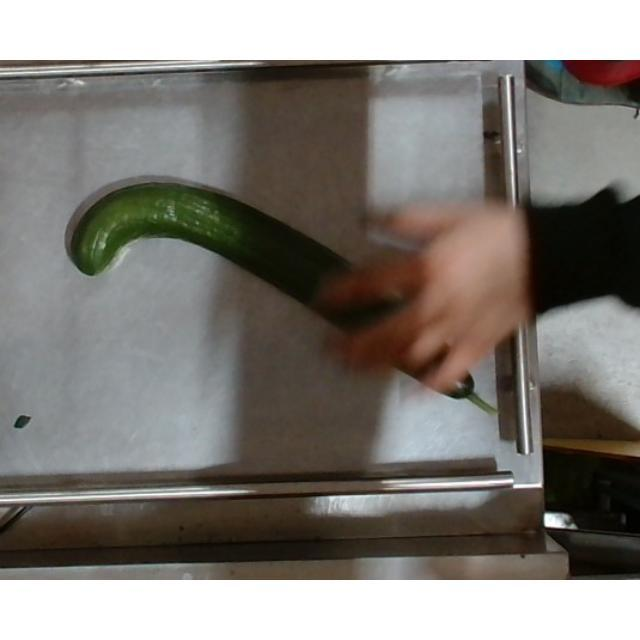cucumber: (70, 180, 497, 414)
